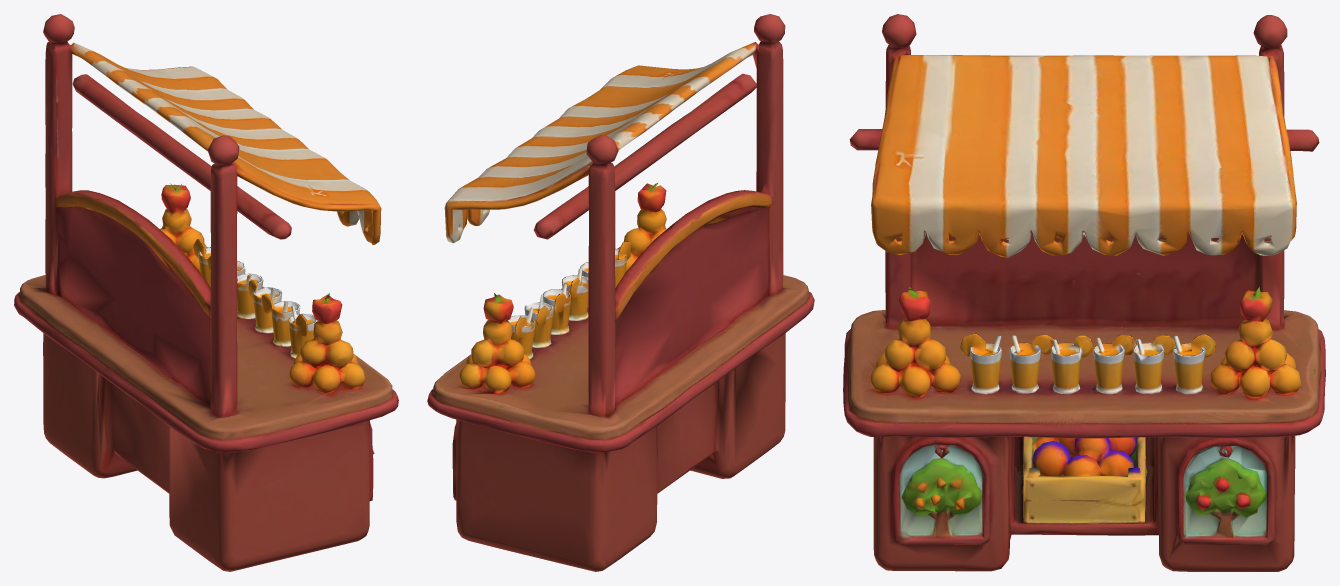
Rendered from juice_stand.glb.
The picture shows the model from 3 angles, left to right: view 1: azimuth 30°, elevation 25°; view 2: azimuth 150°, elevation 25°; view 3: azimuth 270°, elevation 25°; orthographic projection. The views are drawn at different scales.
Parts seen in each view (by area): view 1: tripo_node_62e87dc8-36ac-4110-83f6-32e61d11b197; view 2: tripo_node_62e87dc8-36ac-4110-83f6-32e61d11b197; view 3: tripo_node_62e87dc8-36ac-4110-83f6-32e61d11b197.
Part boxes in pixels (x1=…): tripo_node_62e87dc8-36ac-4110-83f6-32e61d11b197: x1=14, y1=14, x2=398, y2=571; tripo_node_62e87dc8-36ac-4110-83f6-32e61d11b197: x1=427, y1=14, x2=814, y2=571; tripo_node_62e87dc8-36ac-4110-83f6-32e61d11b197: x1=843, y1=14, x2=1325, y2=571.
Size of the model in its own units: 0.2426 by 0.5 by 0.4511.
1 material, 1 textured.
